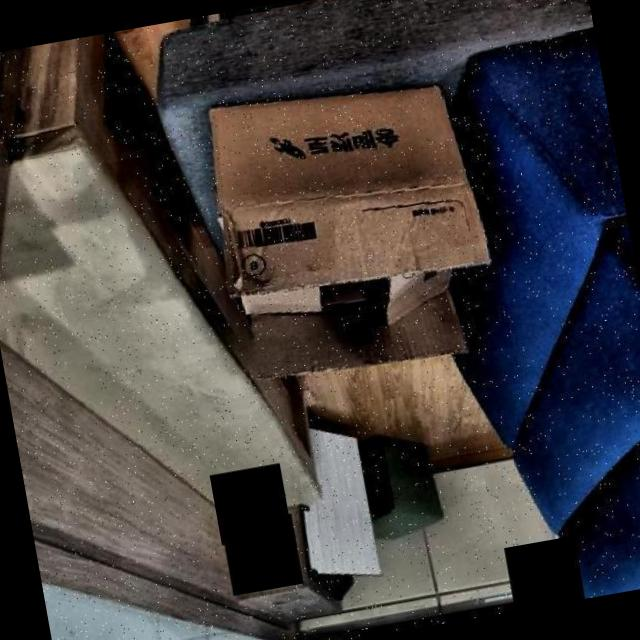box: (190, 57, 513, 394)
